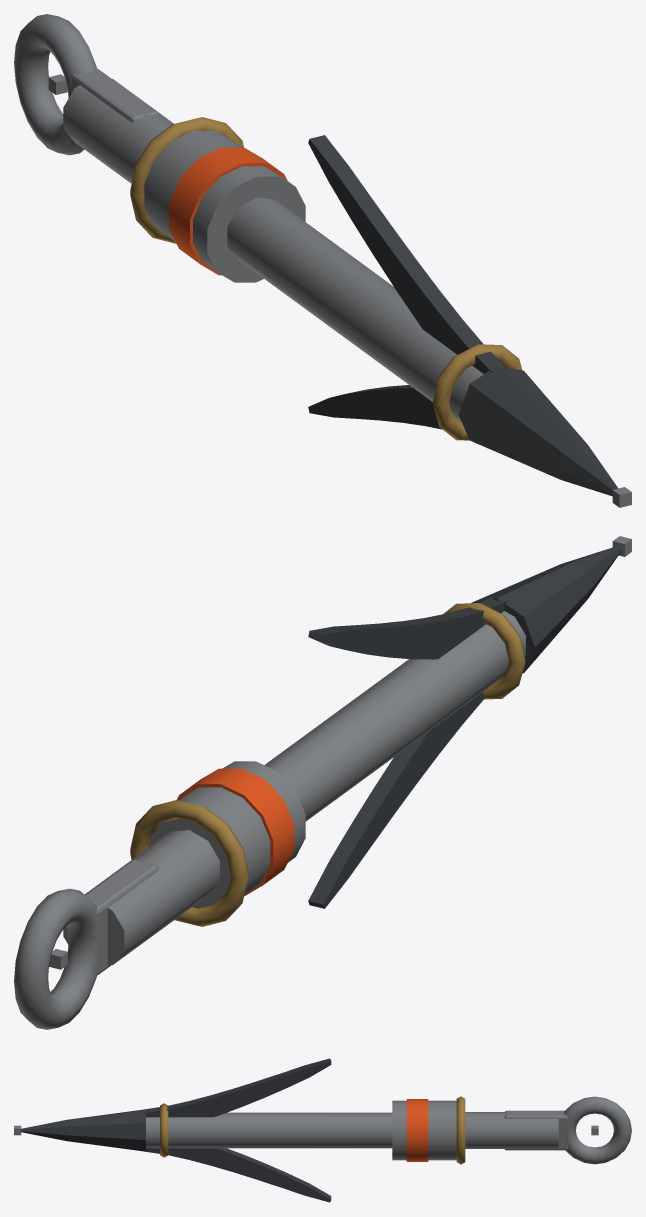
Rendered from grapple_dart_light.fbx.
The picture shows the model from 3 angles, top to bottom: view 1: azimuth 30°, elevation 25°; view 2: azimuth 150°, elevation 25°; view 3: azimuth 270°, elevation 25°; orthographic projection. The views are drawn at different scales.
Parts seen in each view (by area): view 1: Mesh_GrappleDart_Light; view 2: Mesh_GrappleDart_Light; view 3: Mesh_GrappleDart_Light.
Boxes of the visible parts, x1=… form: Mesh_GrappleDart_Light: x1=14, y1=14, x2=618, y2=496; Mesh_GrappleDart_Light: x1=14, y1=546, x2=621, y2=1029; Mesh_GrappleDart_Light: x1=21, y1=1058, x2=631, y2=1202.
Size of the model in its own units: 3.86 by 8.56 by 34.15.
